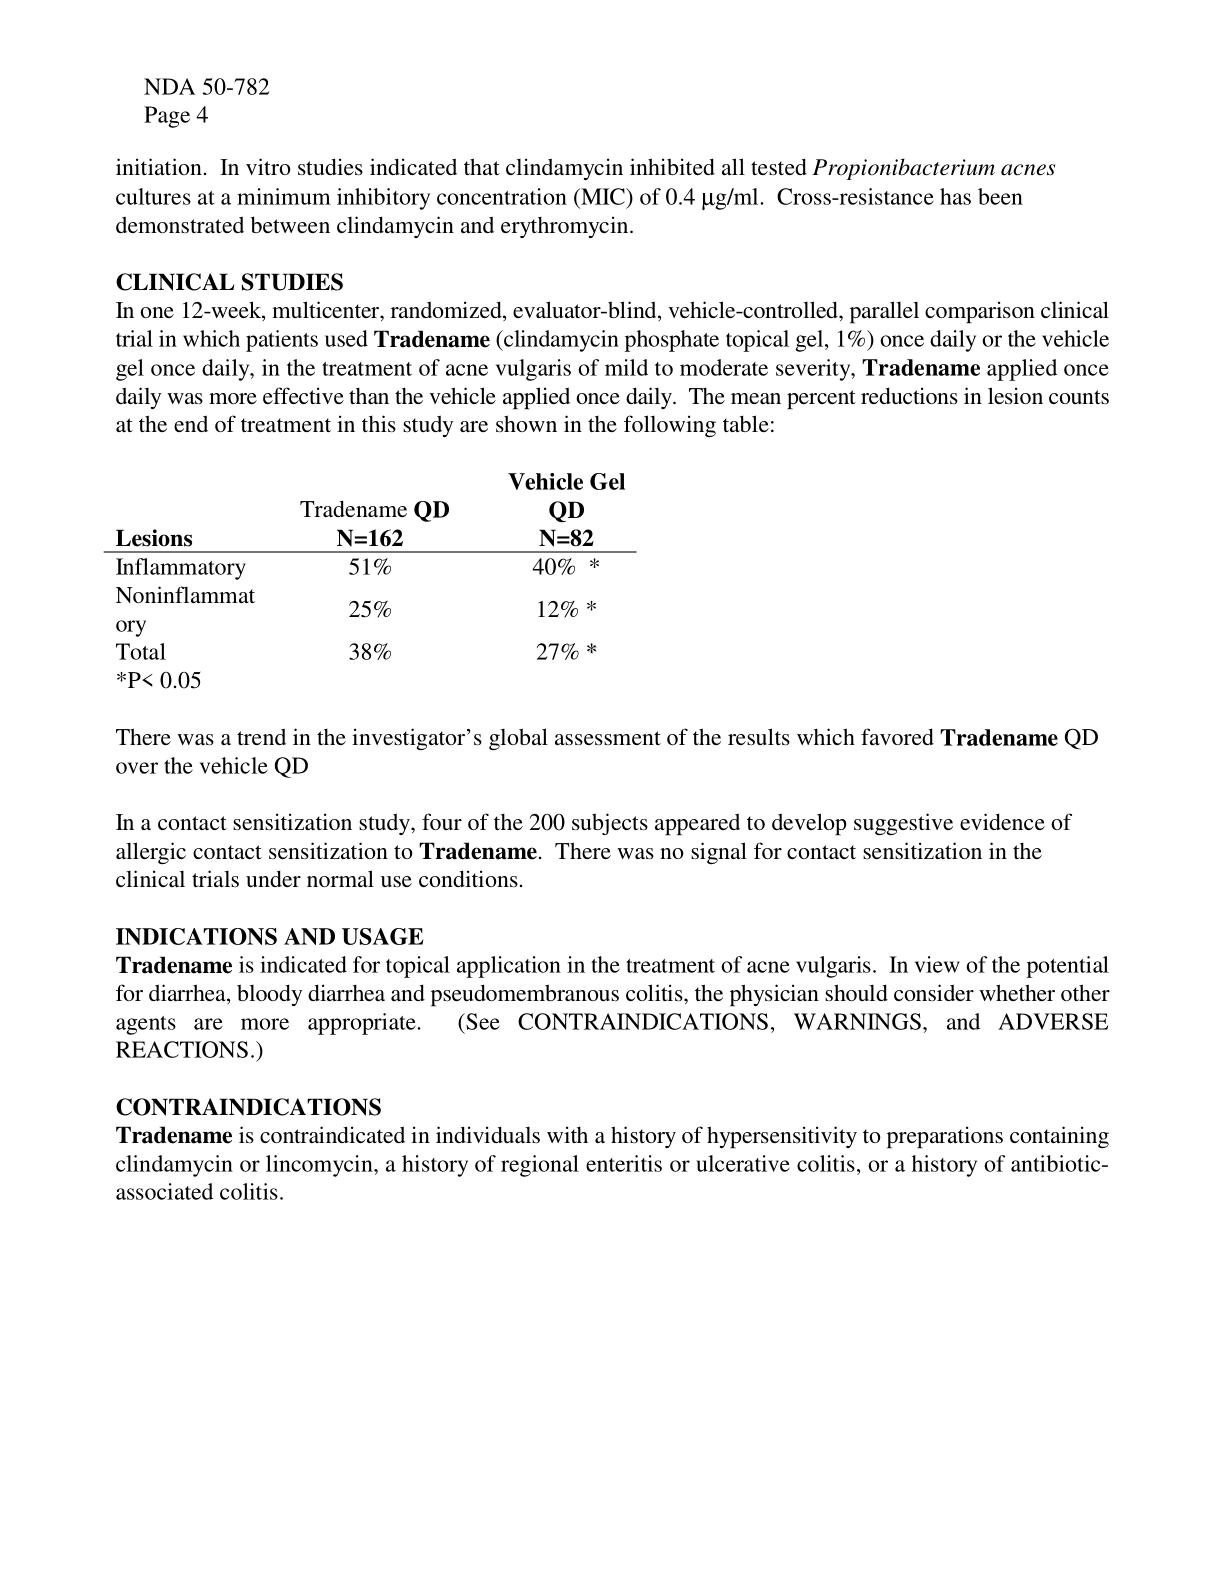partial_lined: (105, 467, 640, 696)
